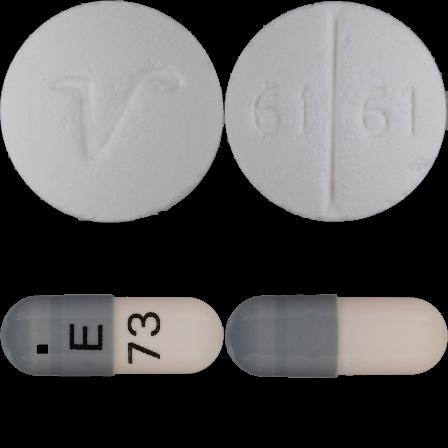61786-540: (0, 0, 224, 224)
